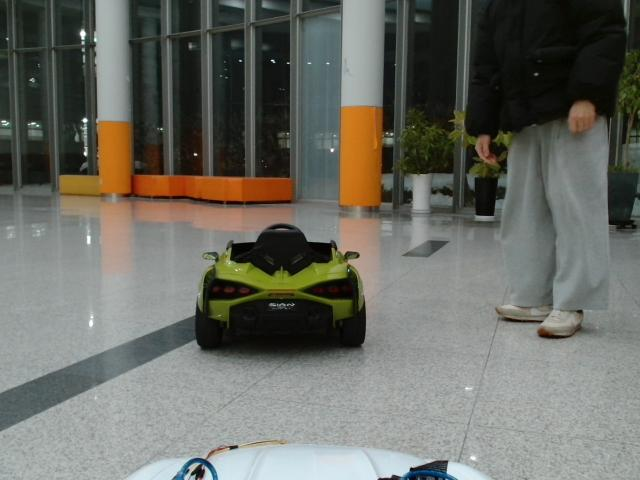car: (195, 224, 368, 350)
